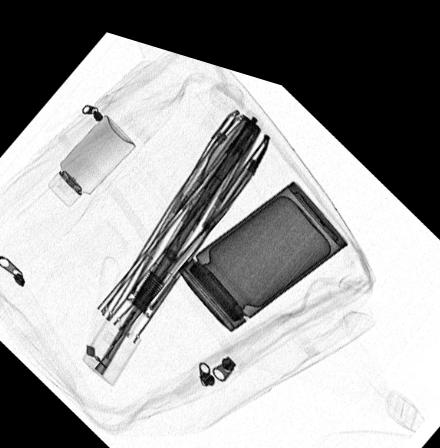Sprayer: (46, 107, 134, 202)
